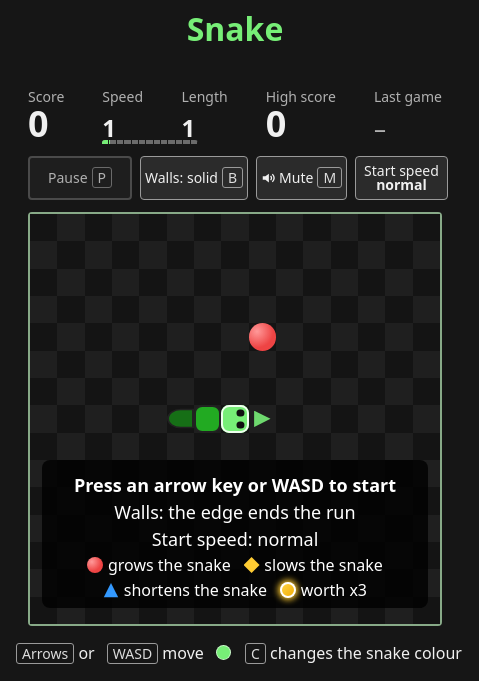
Test: a first visit reads Start speed: normal and the button cycles
Note: when / then
Click the button with aria-label "Start speed: normal" at (402, 178), box [355,156,448,200]
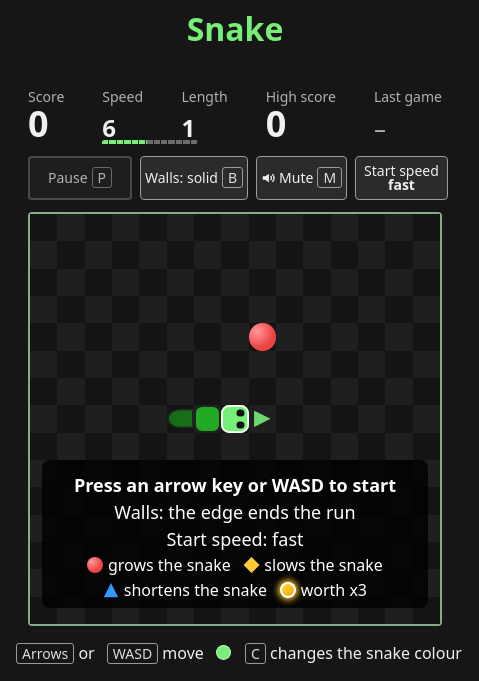
Check: the button with aria-label "Start speed: fast" is shown
Click the button with aria-label "Start speed: fast" at (402, 178), box [355,156,448,200]
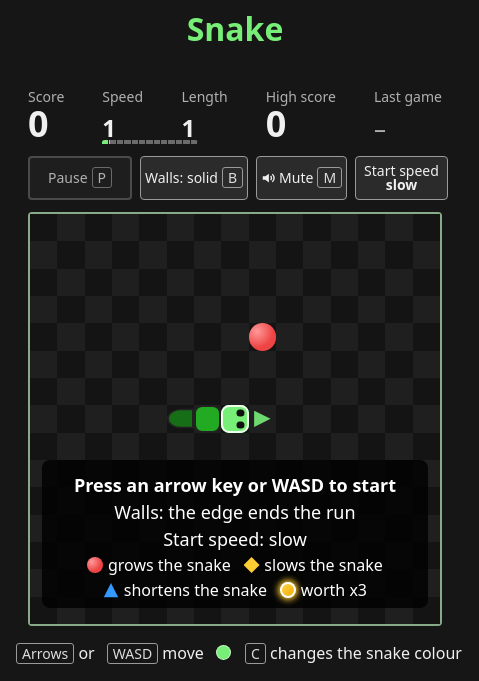
Click the button "Start speed slow" at (402, 178), box [355,156,448,200]
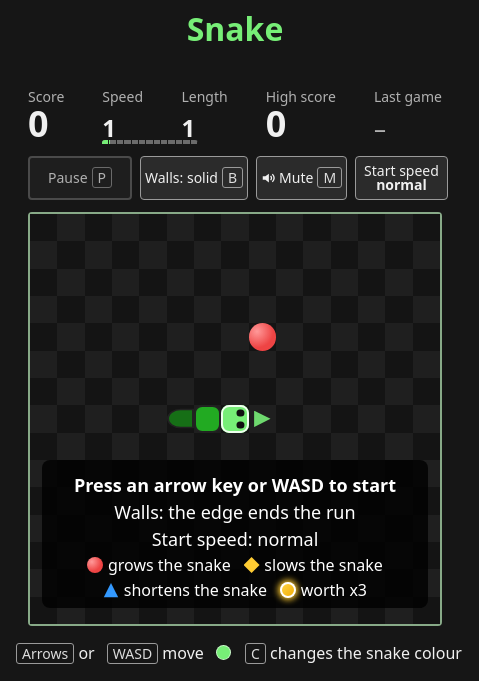
Check: the button with aria-label "Start speed: normal" is shown, box [355,156,448,200]
